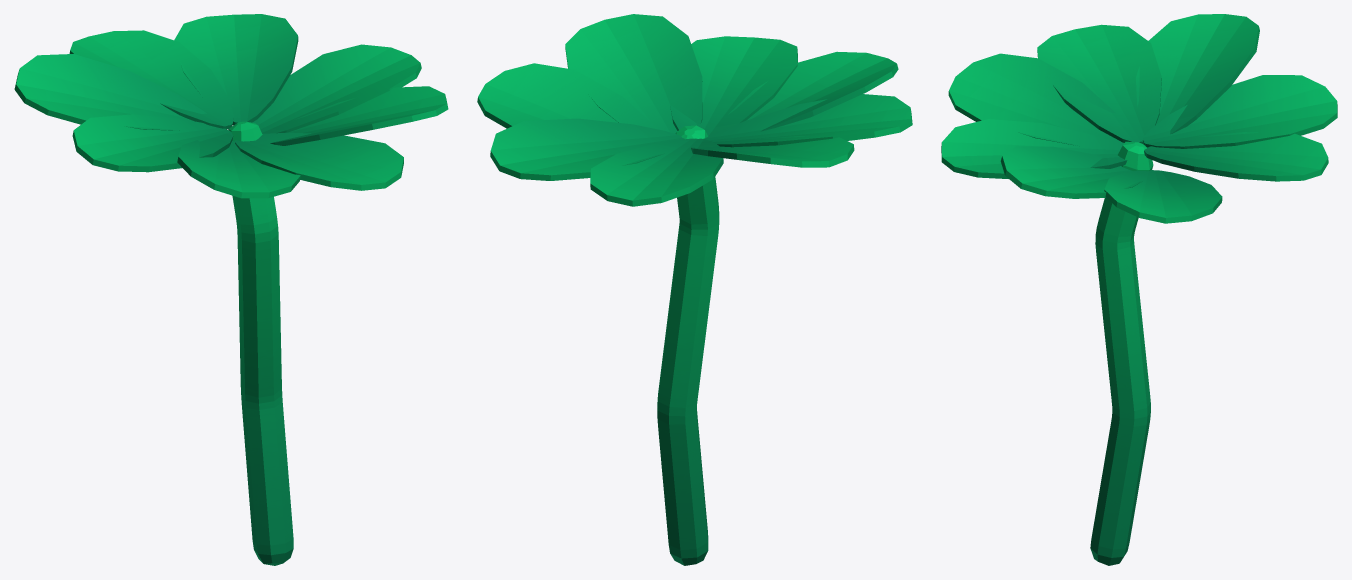
The model's file is Trevo4Folhas.fbx.
3 views of the same model, side by side, from view 1: azimuth 30°, elevation 25°; view 2: azimuth 150°, elevation 25°; view 3: azimuth 270°, elevation 25° (orthographic). The views are drawn at different scales.
Parts seen in each view (by area): view 1: Plane.008; view 2: Plane.008; view 3: Plane.008.
Boxes of the visible parts, left/top/right/bottom form: Plane.008: left=14, top=14, right=448, bottom=565; Plane.008: left=477, top=14, right=912, bottom=565; Plane.008: left=941, top=14, right=1337, bottom=565.
Size of the model in its own units: 23.24 by 29.4 by 22.66.
Materials: 1 (1 with a texture image).
